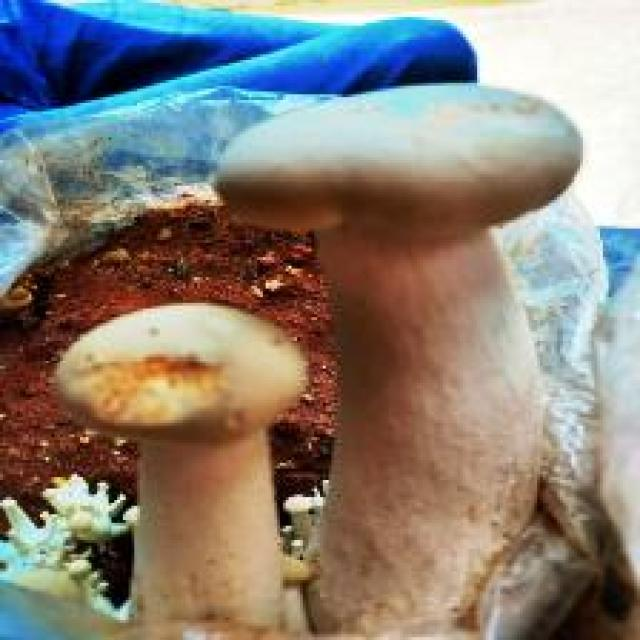field-mushroom: (208, 80, 592, 637), (52, 297, 308, 634)
